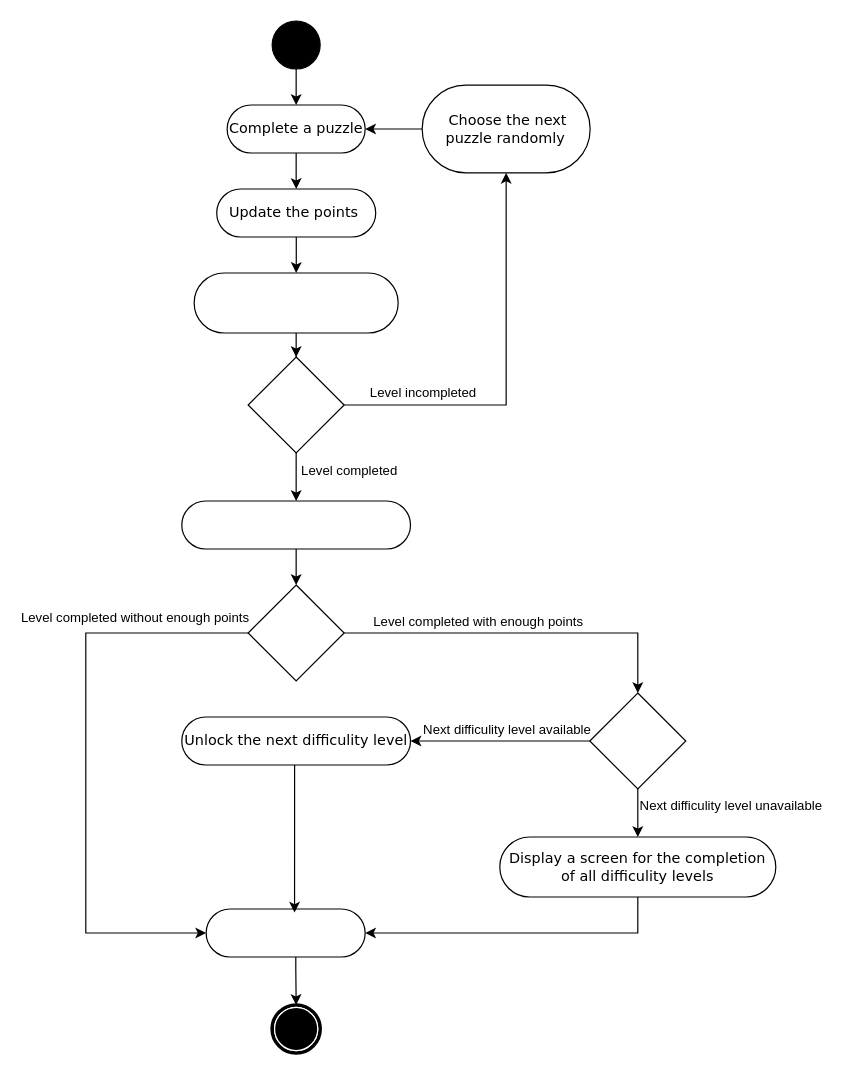
Image size: 863x1074. Some labels were removed from this diagram. The box of each missing label's shape, as (x1, y1, x2, y2) in pixels:
Display a screen with level completion info: (181, 500, 411, 549)
Display a screen with the details of this puzzle: (193, 272, 398, 333)
go back to main menu: (205, 908, 365, 957)
